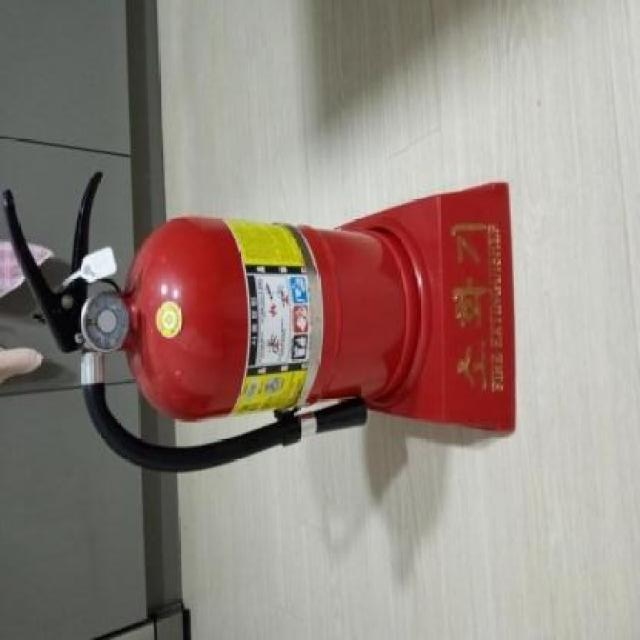fire extinguisher: (1, 171, 417, 474)
